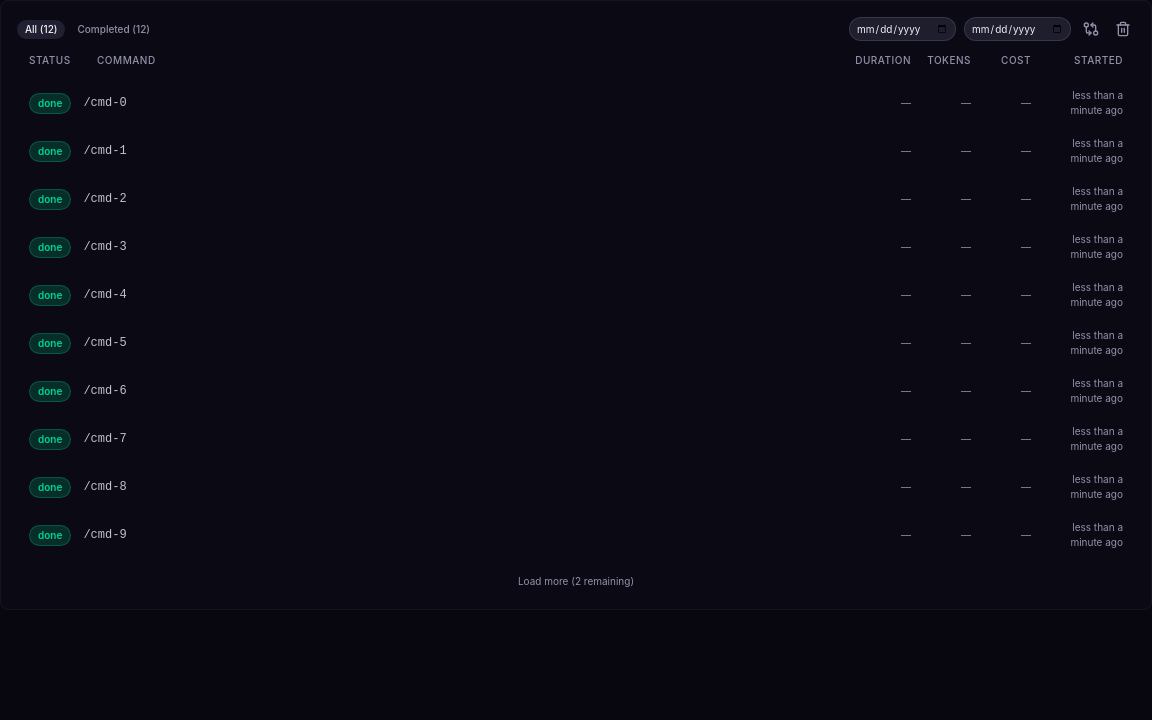
Test: RecentJobs › pagination › loads more jobs when "Load more" is clicked
Click the button "Load more (2 remaining)": (576, 582) x1=506 y1=570 x2=646 y2=593
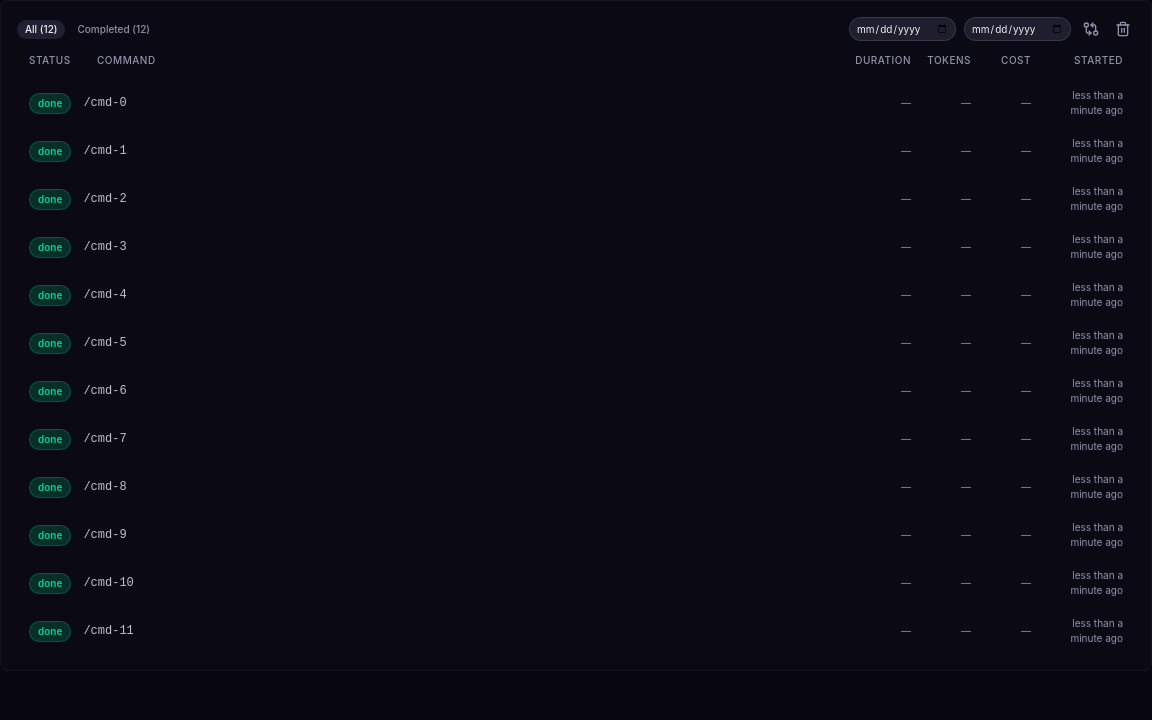
Expected: the button "Load more" is gone
